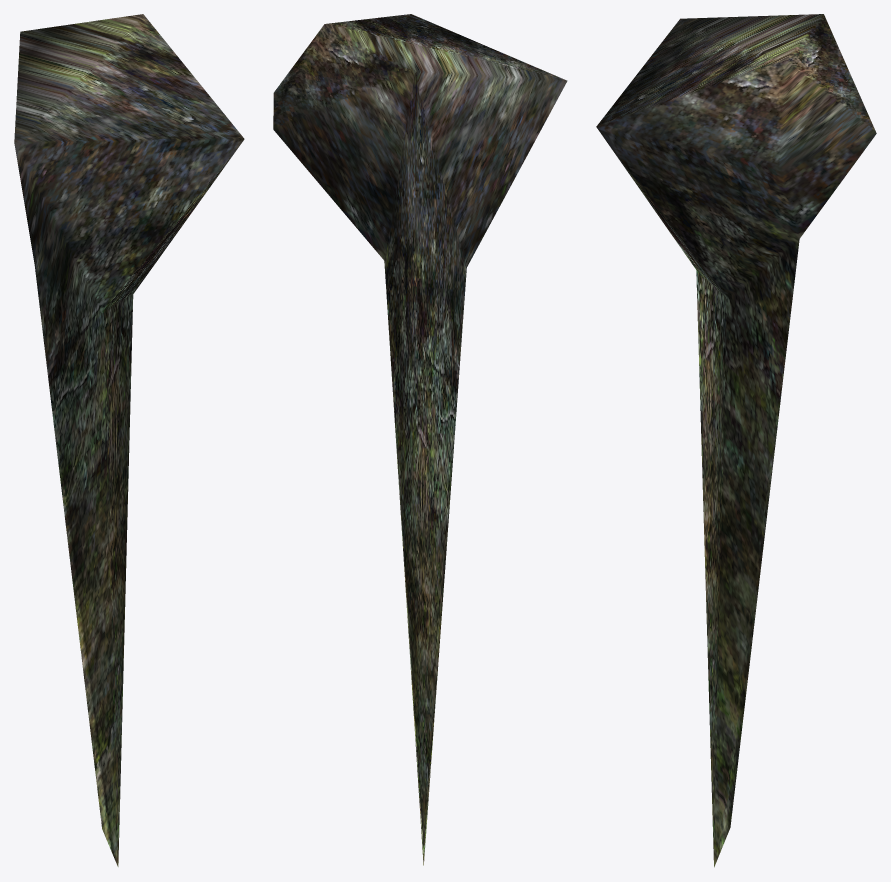
Rendered from thm_all_cave_stalagtite_damprock_a2_l2.fbx.
3 views of the same model, side by side, from view 1: azimuth 30°, elevation 25°; view 2: azimuth 150°, elevation 25°; view 3: azimuth 270°, elevation 25° (orthographic). The views are drawn at different scales.
Visible parts, largest first — view 1: mesh_node; view 2: mesh_node; view 3: mesh_node.
Part boxes in pixels (x1,y1,x2,y2): mesh_node: [14, 14, 244, 866]; mesh_node: [273, 14, 567, 865]; mesh_node: [596, 14, 876, 867].
Size of the model in its own units: 0.5625 by 1.89 by 0.5742.
